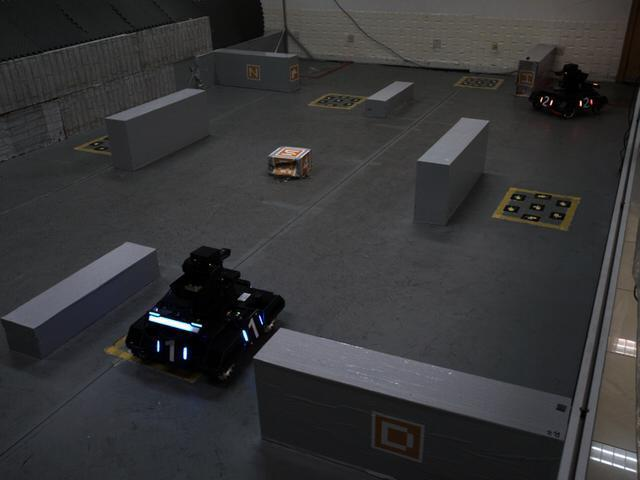armor: (149, 331, 192, 370), (237, 313, 266, 346), (534, 93, 556, 112), (574, 93, 596, 111)
